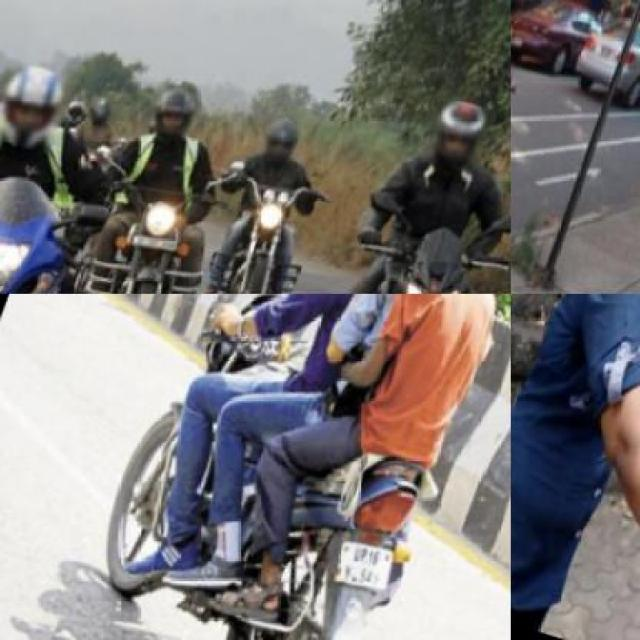With Helmet: (0, 58, 82, 160), (419, 97, 499, 181), (146, 82, 206, 146), (256, 118, 307, 176), (86, 91, 120, 129), (511, 0, 540, 25)
